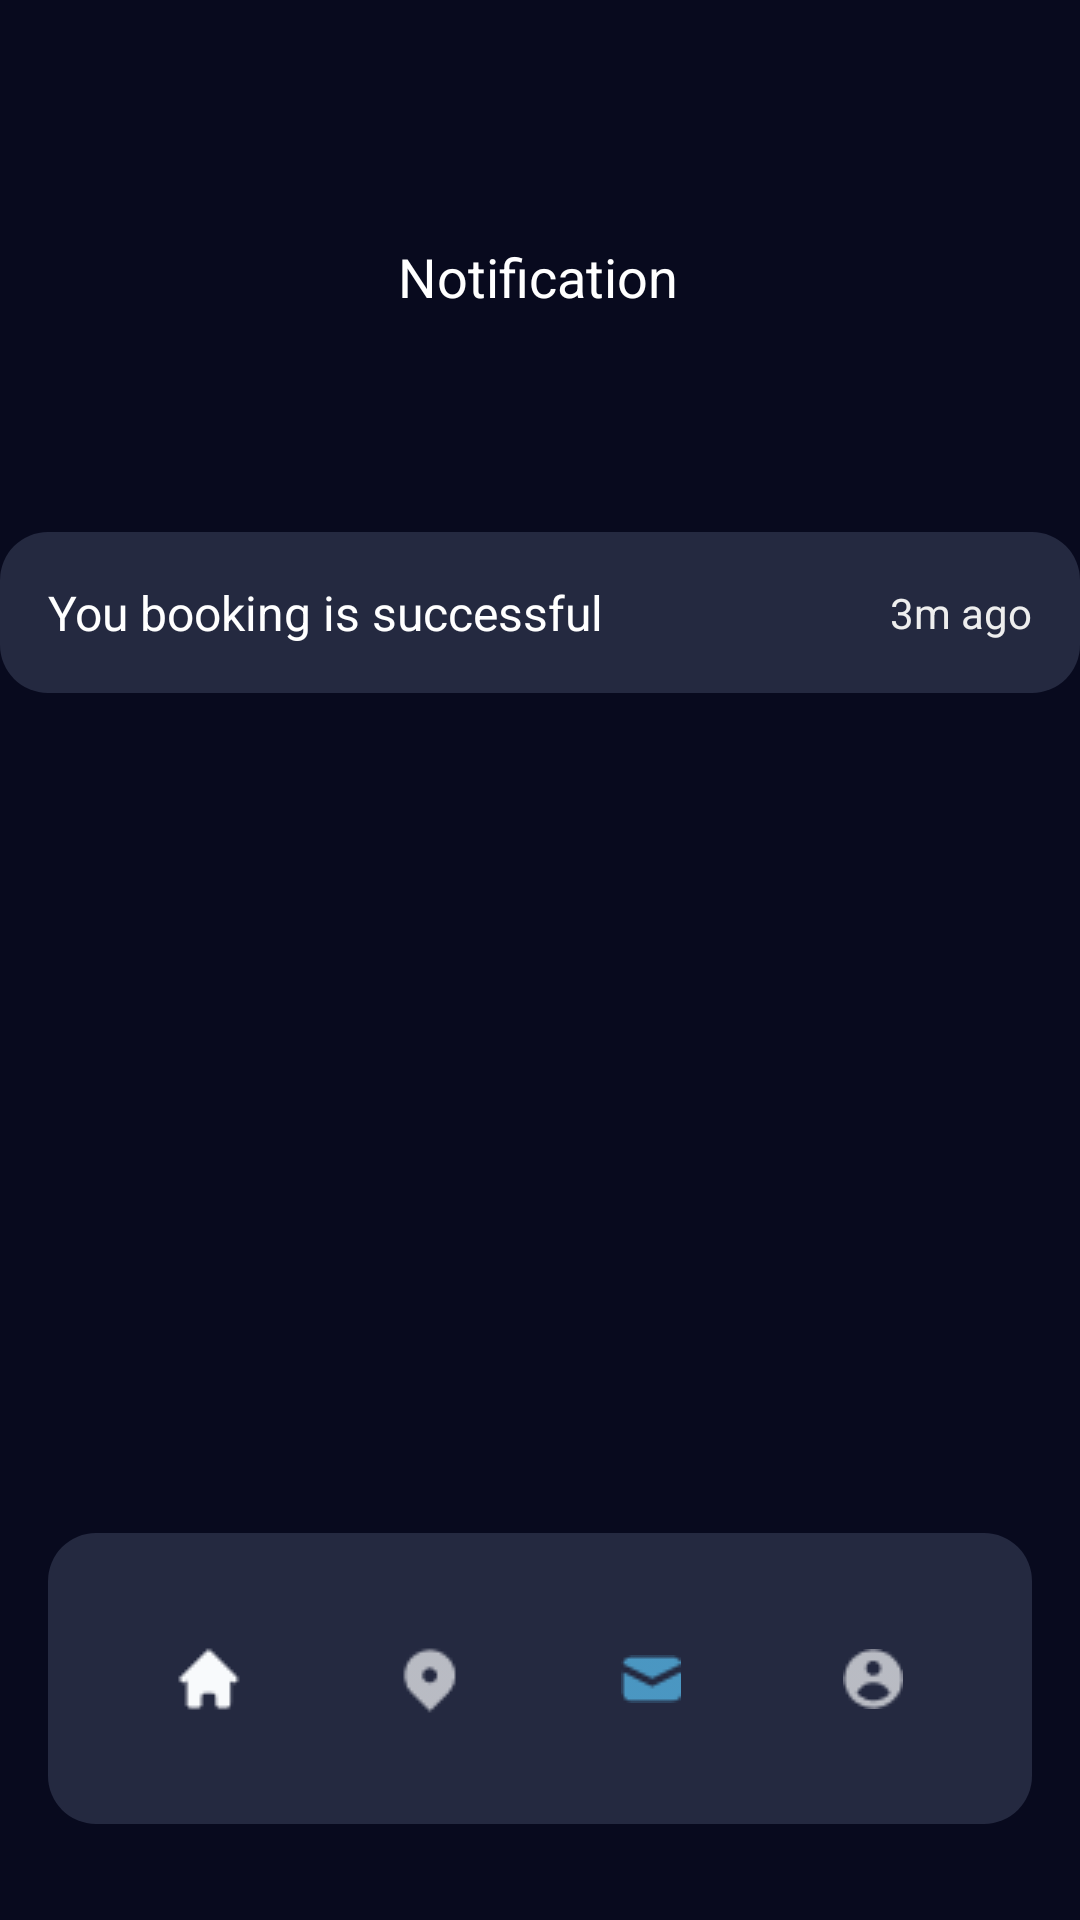

Icons on this 1080px x 1920px Android screen, each with its box as BBox(x1, y1, x2, y2):
nmap: BBox(403, 1648, 456, 1712)
onhome: BBox(178, 1648, 240, 1710)
onmsg: BBox(621, 1655, 681, 1703)
onprofile: BBox(843, 1649, 903, 1709)
